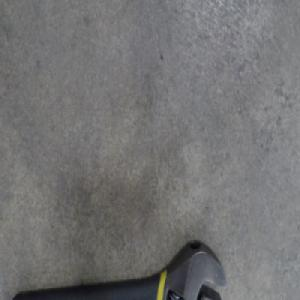AdjustableWrench: (15, 238, 229, 299)
